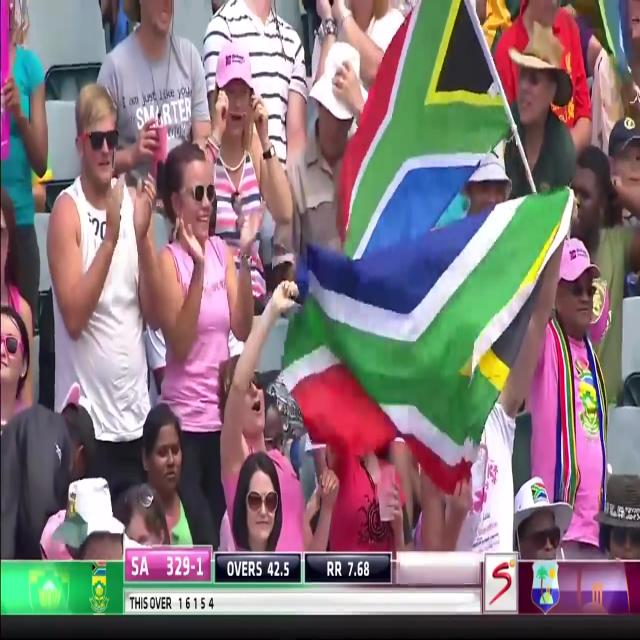Ball: (273, 45, 639, 554)
